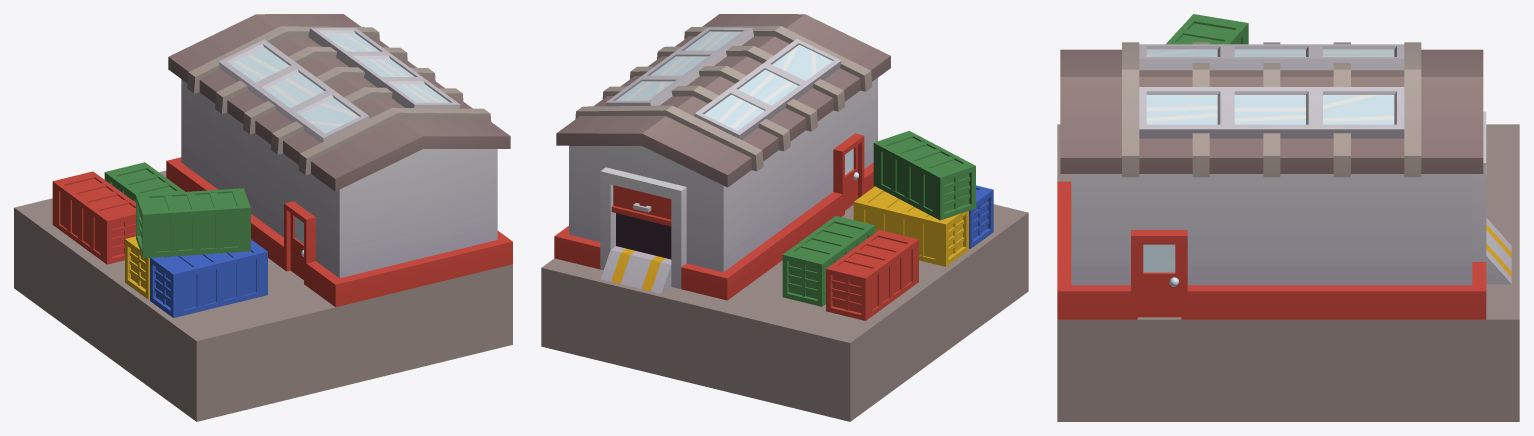
Rendered from Warehouse.fbx.
3 views of the same model, side by side, from view 1: azimuth 30°, elevation 25°; view 2: azimuth 150°, elevation 25°; view 3: azimuth 270°, elevation 25° (orthographic). The views are drawn at different scales.
Parts seen in each view (by area): view 1: Cube.007; view 2: Cube.007; view 3: Cube.007.
Boxes of the visible parts, x1=… form: Cube.007: x1=14, y1=14, x2=512, y2=421; Cube.007: x1=541, y1=14, x2=1028, y2=421; Cube.007: x1=1057, y1=14, x2=1519, y2=421.
Size of the model in its own units: 406 by 284 by 400.
